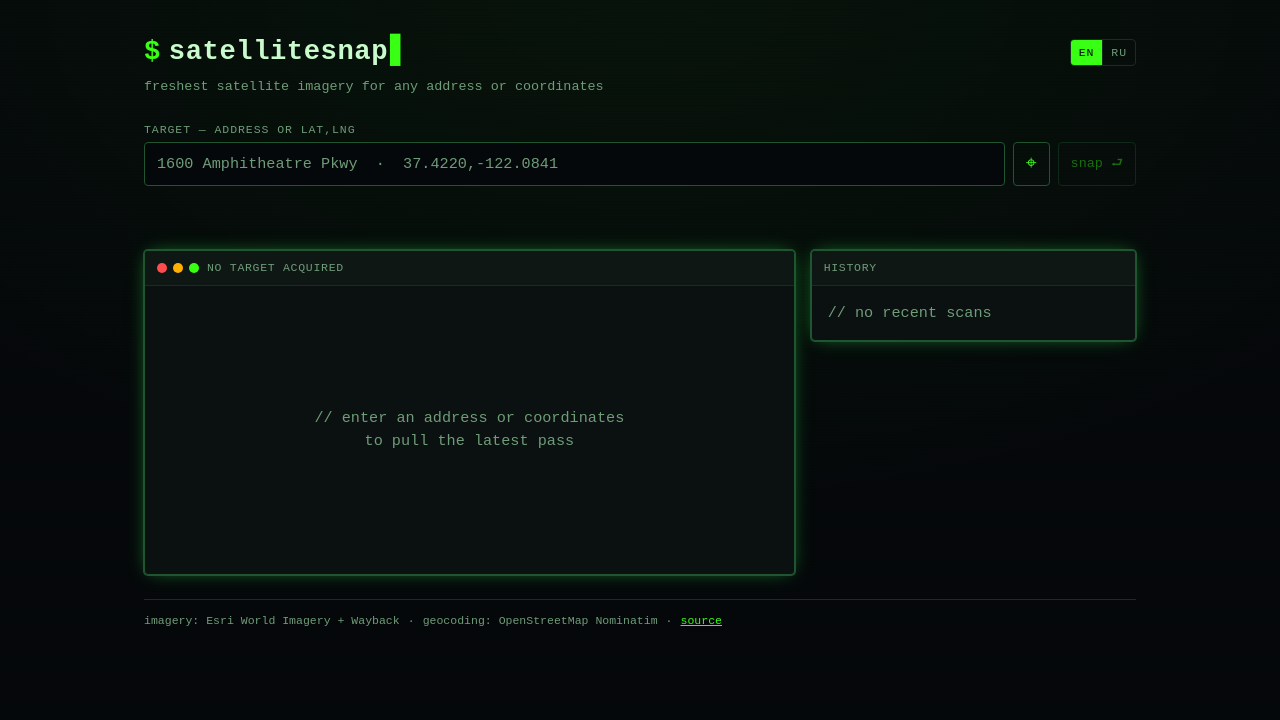
it: App › surfaces a geocoder error
Type "zzzz nowhere" into the field at coordinates (574, 164), box x1=144 y1=142 x2=1005 y2=186
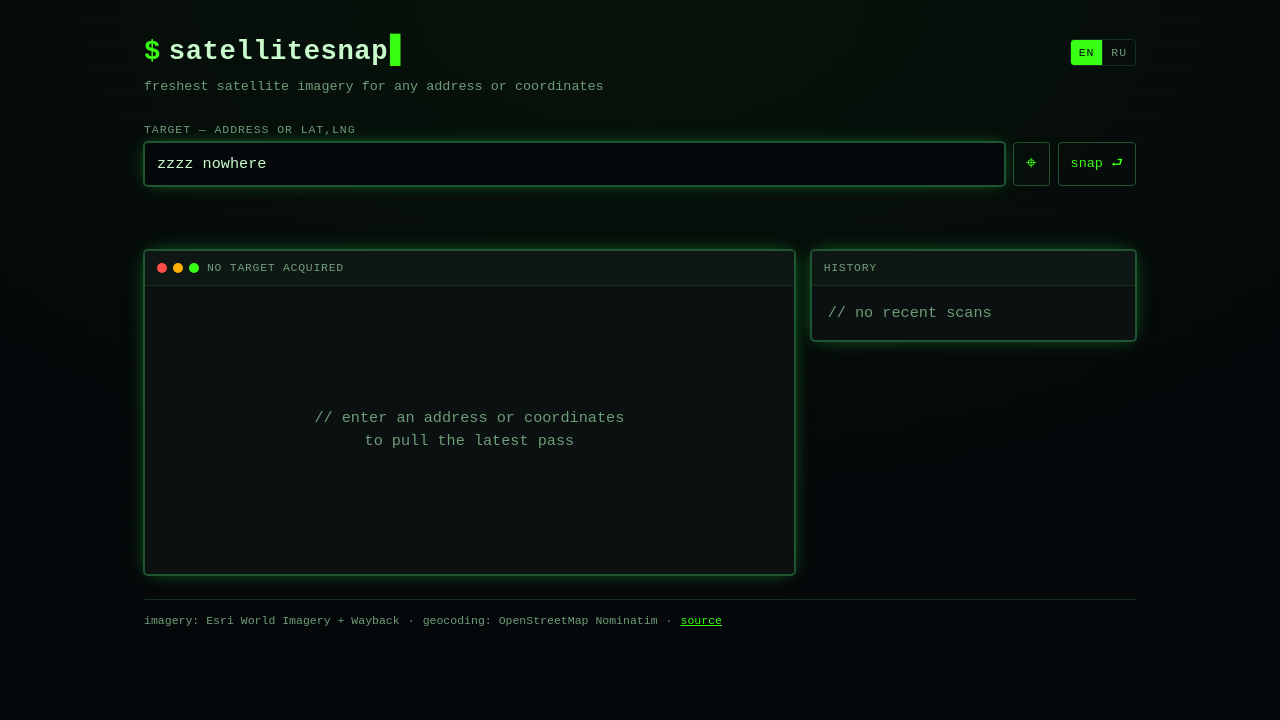
Click the button "snap ⮐" at coordinates (1097, 164), box x1=1058 y1=142 x2=1136 y2=186
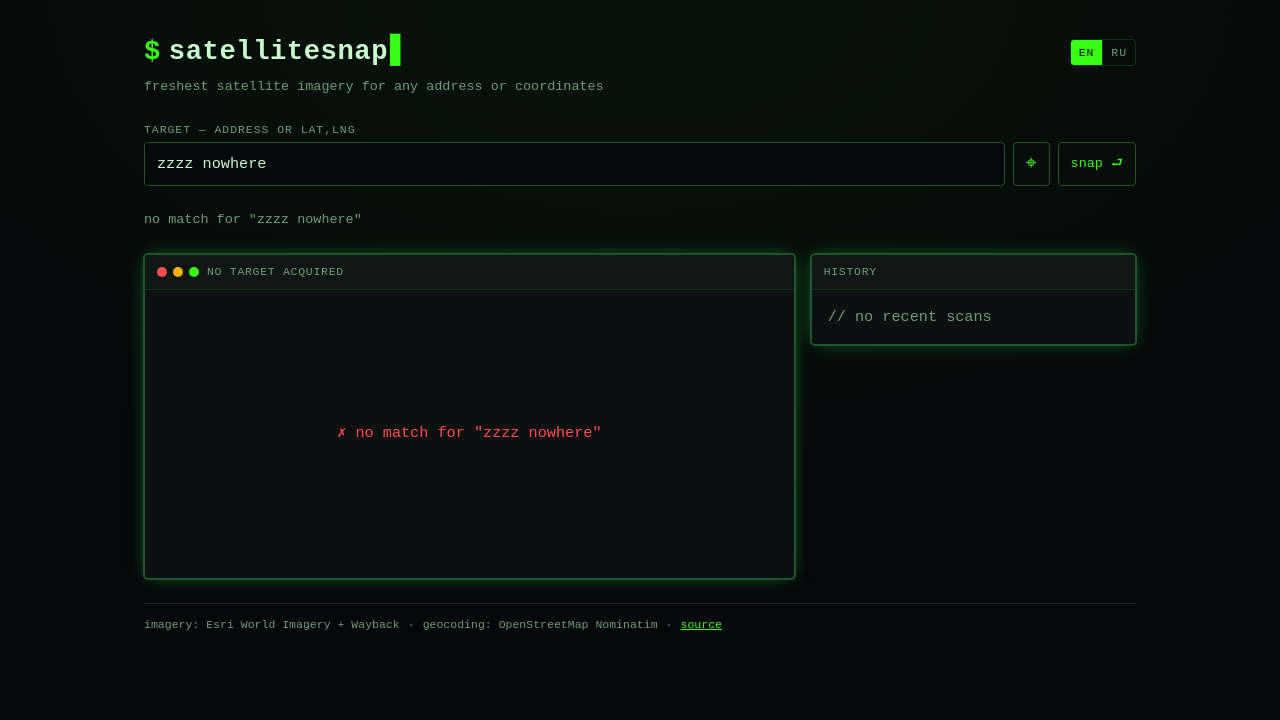
Result: the message "✗ no match for \"zzzz nowhere\"" is shown at x1=337 y1=422 x2=602 y2=445
